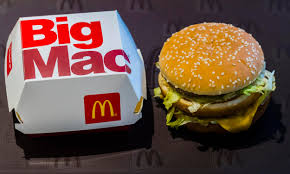mcdonalds: (89, 98, 116, 121)
